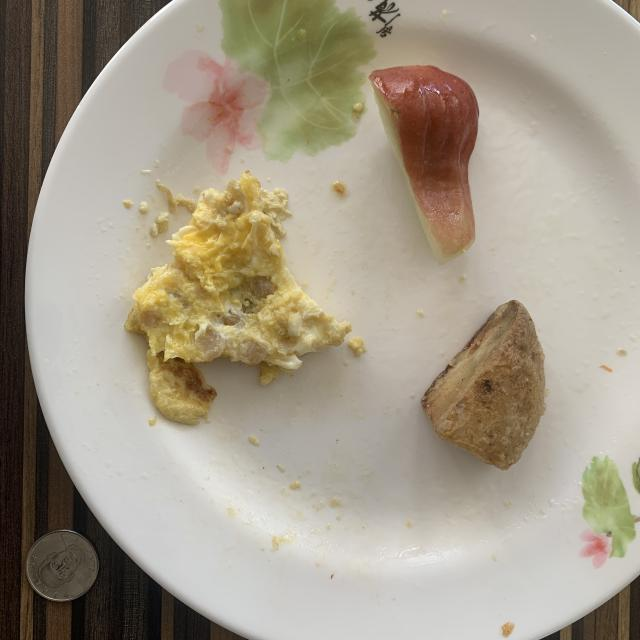coin: (26, 530, 99, 601)
fried potato: (421, 300, 546, 470)
